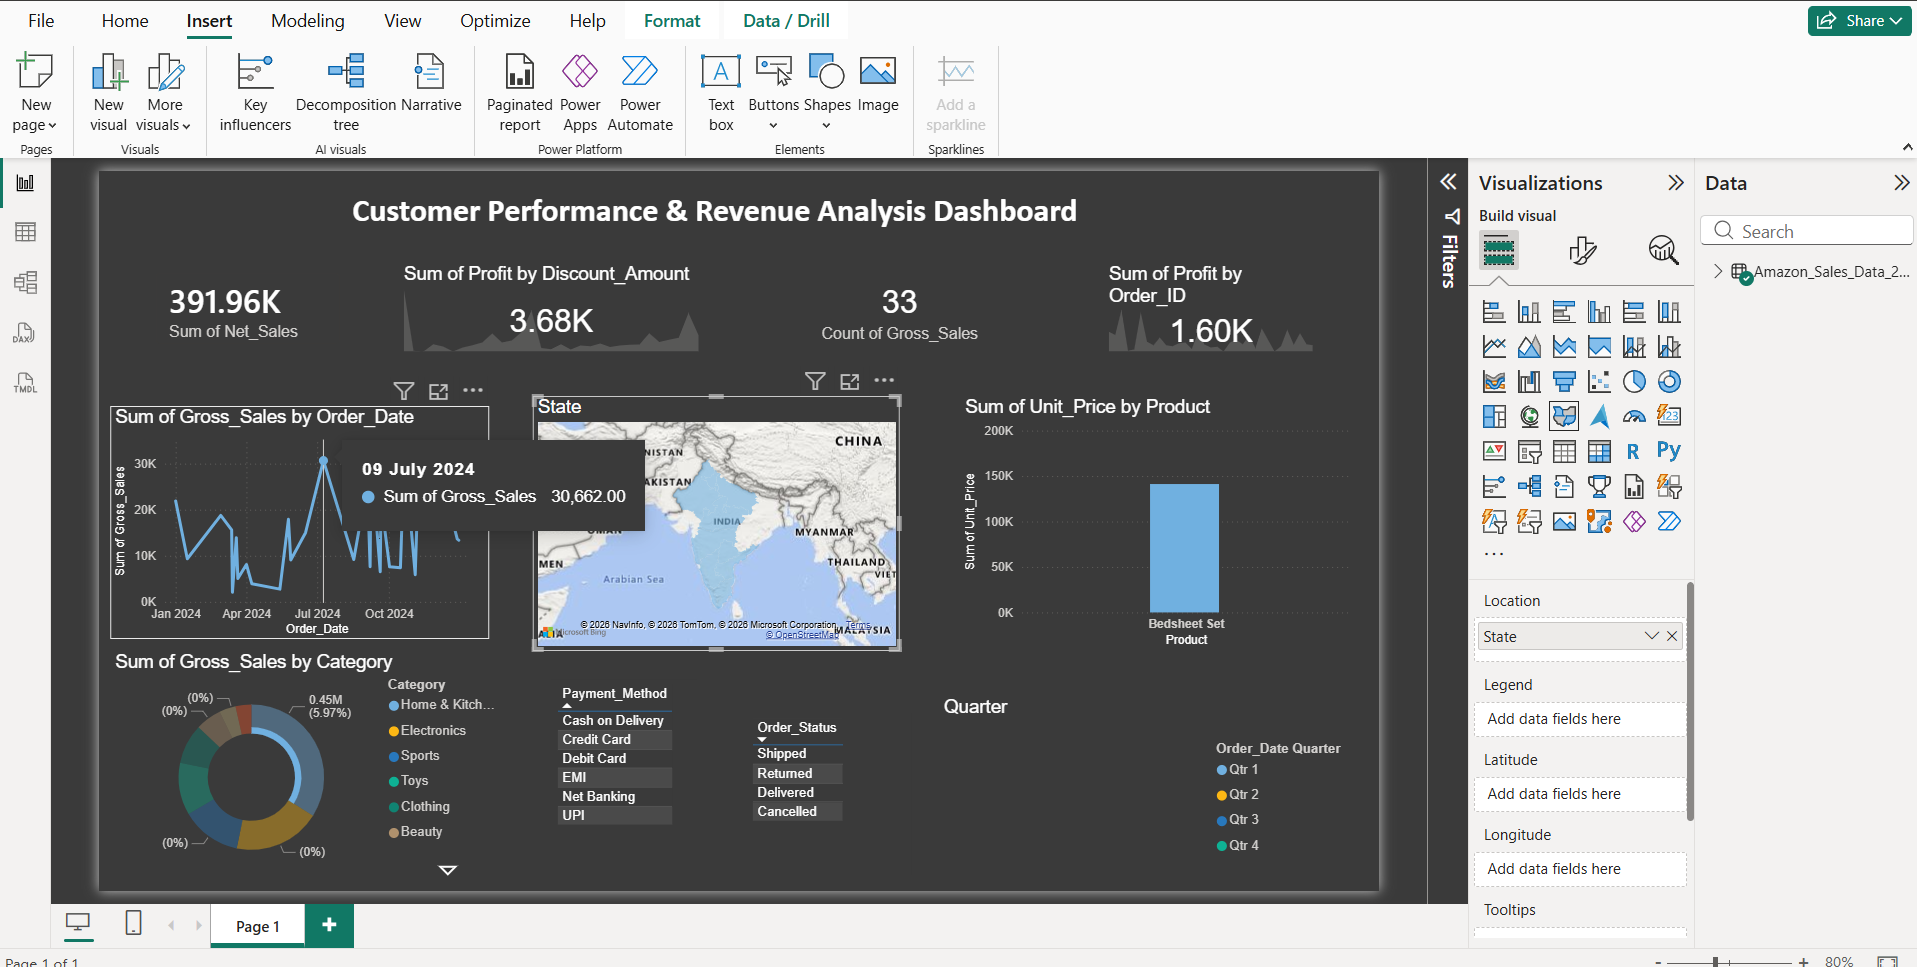

This screenshot's page, from the dashboard's own definition file:
{"tool":"powerbi","page":{"name":"Page 1","canvas":[1280,720],"ordinal":0},"visuals":[{"type":"lineChart","fields":{"Category":["Amazon_Sales_Data_2024.Order_Date"],"Y":["Sum(Amazon_Sales_Data_2024.Gross_Sales)"]},"box":[11,234.6,378.7,234.6],"z":0},{"type":"donutChart","fields":{"Category":["Amazon_Sales_Data_2024.Category"],"Y":["Sum(Amazon_Sales_Data_2024.Gross_Sales)"]},"box":[11,480.3,400.7,231.9],"z":1000},{"type":"filledMap","fields":{"Category":["Amazon_Sales_Data_2024.State"]},"box":[433.6,225,367.8,255.2],"z":2000},{"type":"columnChart","fields":{"Category":["Amazon_Sales_Data_2024.Product"],"Y":["Sum(Amazon_Sales_Data_2024.Unit_Price)"]},"box":[861.8,225,395.2,255.2],"z":3000},{"type":"tableEx","fields":{"Values":["Amazon_Sales_Data_2024.Order_Status"]},"box":[647.7,542,164.7,161.9],"z":4000},{"type":"tableEx","fields":{"Values":["Amazon_Sales_Data_2024.Payment_Method"]},"box":[452.8,509.1,145.5,194.9],"z":5000},{"type":"pieChart","fields":{"Category":["Amazon_Sales_Data_2024.Order_Date.Variation.Date Hierarchy.Quarter"]},"box":[839.8,525.6,417.2,186.6],"z":6000},{"type":"kpi","fields":{"TrendLine":["Amazon_Sales_Data_2024.Discount_Amount"],"Indicator":["Sum(Amazon_Sales_Data_2024.Profit)"]},"box":[300.5,91.9,304.6,93.3],"z":8000},{"type":"cardVisual","fields":{"Data":["Sum(Amazon_Sales_Data_2024.Net_Sales)"]},"box":[39.8,85.1,218.2,105.7],"z":9000},{"type":"kpi","fields":{"TrendLine":["Amazon_Sales_Data_2024.Order_ID"],"Indicator":["Sum(Amazon_Sales_Data_2024.Profit)"]},"box":[1004.5,91.9,214.1,93.3],"z":10000},{"type":"card","fields":{"Values":["Count(Amazon_Sales_Data_2024.Gross_Sales)"]},"box":[691.6,91.9,219.6,93.3],"z":11000},{"type":"textbox","box":[100.2,15.1,1031.9,70],"z":11001}]}

Visuals, with their boxes on the page's 1280x720 design canvas (x1, y1, x2, y2). These are canvas units, not pixel positions in the 1917x967 screenshot, which may show the page scaled, cropped or inside an application window:
lineChart - Amazon_Sales_Data_2024.Order_Date x Sum(Amazon_Sales_Data_2024.Gross_Sales): bbox=(11, 235, 390, 469)
donutChart - Amazon_Sales_Data_2024.Category x Sum(Amazon_Sales_Data_2024.Gross_Sales): bbox=(11, 480, 412, 712)
filledMap - Amazon_Sales_Data_2024.State: bbox=(434, 225, 801, 480)
columnChart - Amazon_Sales_Data_2024.Product x Sum(Amazon_Sales_Data_2024.Unit_Price): bbox=(862, 225, 1257, 480)
tableEx - Amazon_Sales_Data_2024.Order_Status: bbox=(648, 542, 812, 704)
tableEx - Amazon_Sales_Data_2024.Payment_Method: bbox=(453, 509, 598, 704)
pieChart - Amazon_Sales_Data_2024.Order_Date.Variation.Date Hierarchy.Quarter: bbox=(840, 526, 1257, 712)
kpi - Amazon_Sales_Data_2024.Discount_Amount x Sum(Amazon_Sales_Data_2024.Profit): bbox=(300, 92, 605, 185)
cardVisual - Sum(Amazon_Sales_Data_2024.Net_Sales): bbox=(40, 85, 258, 191)
kpi - Amazon_Sales_Data_2024.Order_ID x Sum(Amazon_Sales_Data_2024.Profit): bbox=(1004, 92, 1219, 185)
card - Count(Amazon_Sales_Data_2024.Gross_Sales): bbox=(692, 92, 911, 185)
textbox: bbox=(100, 15, 1132, 85)
